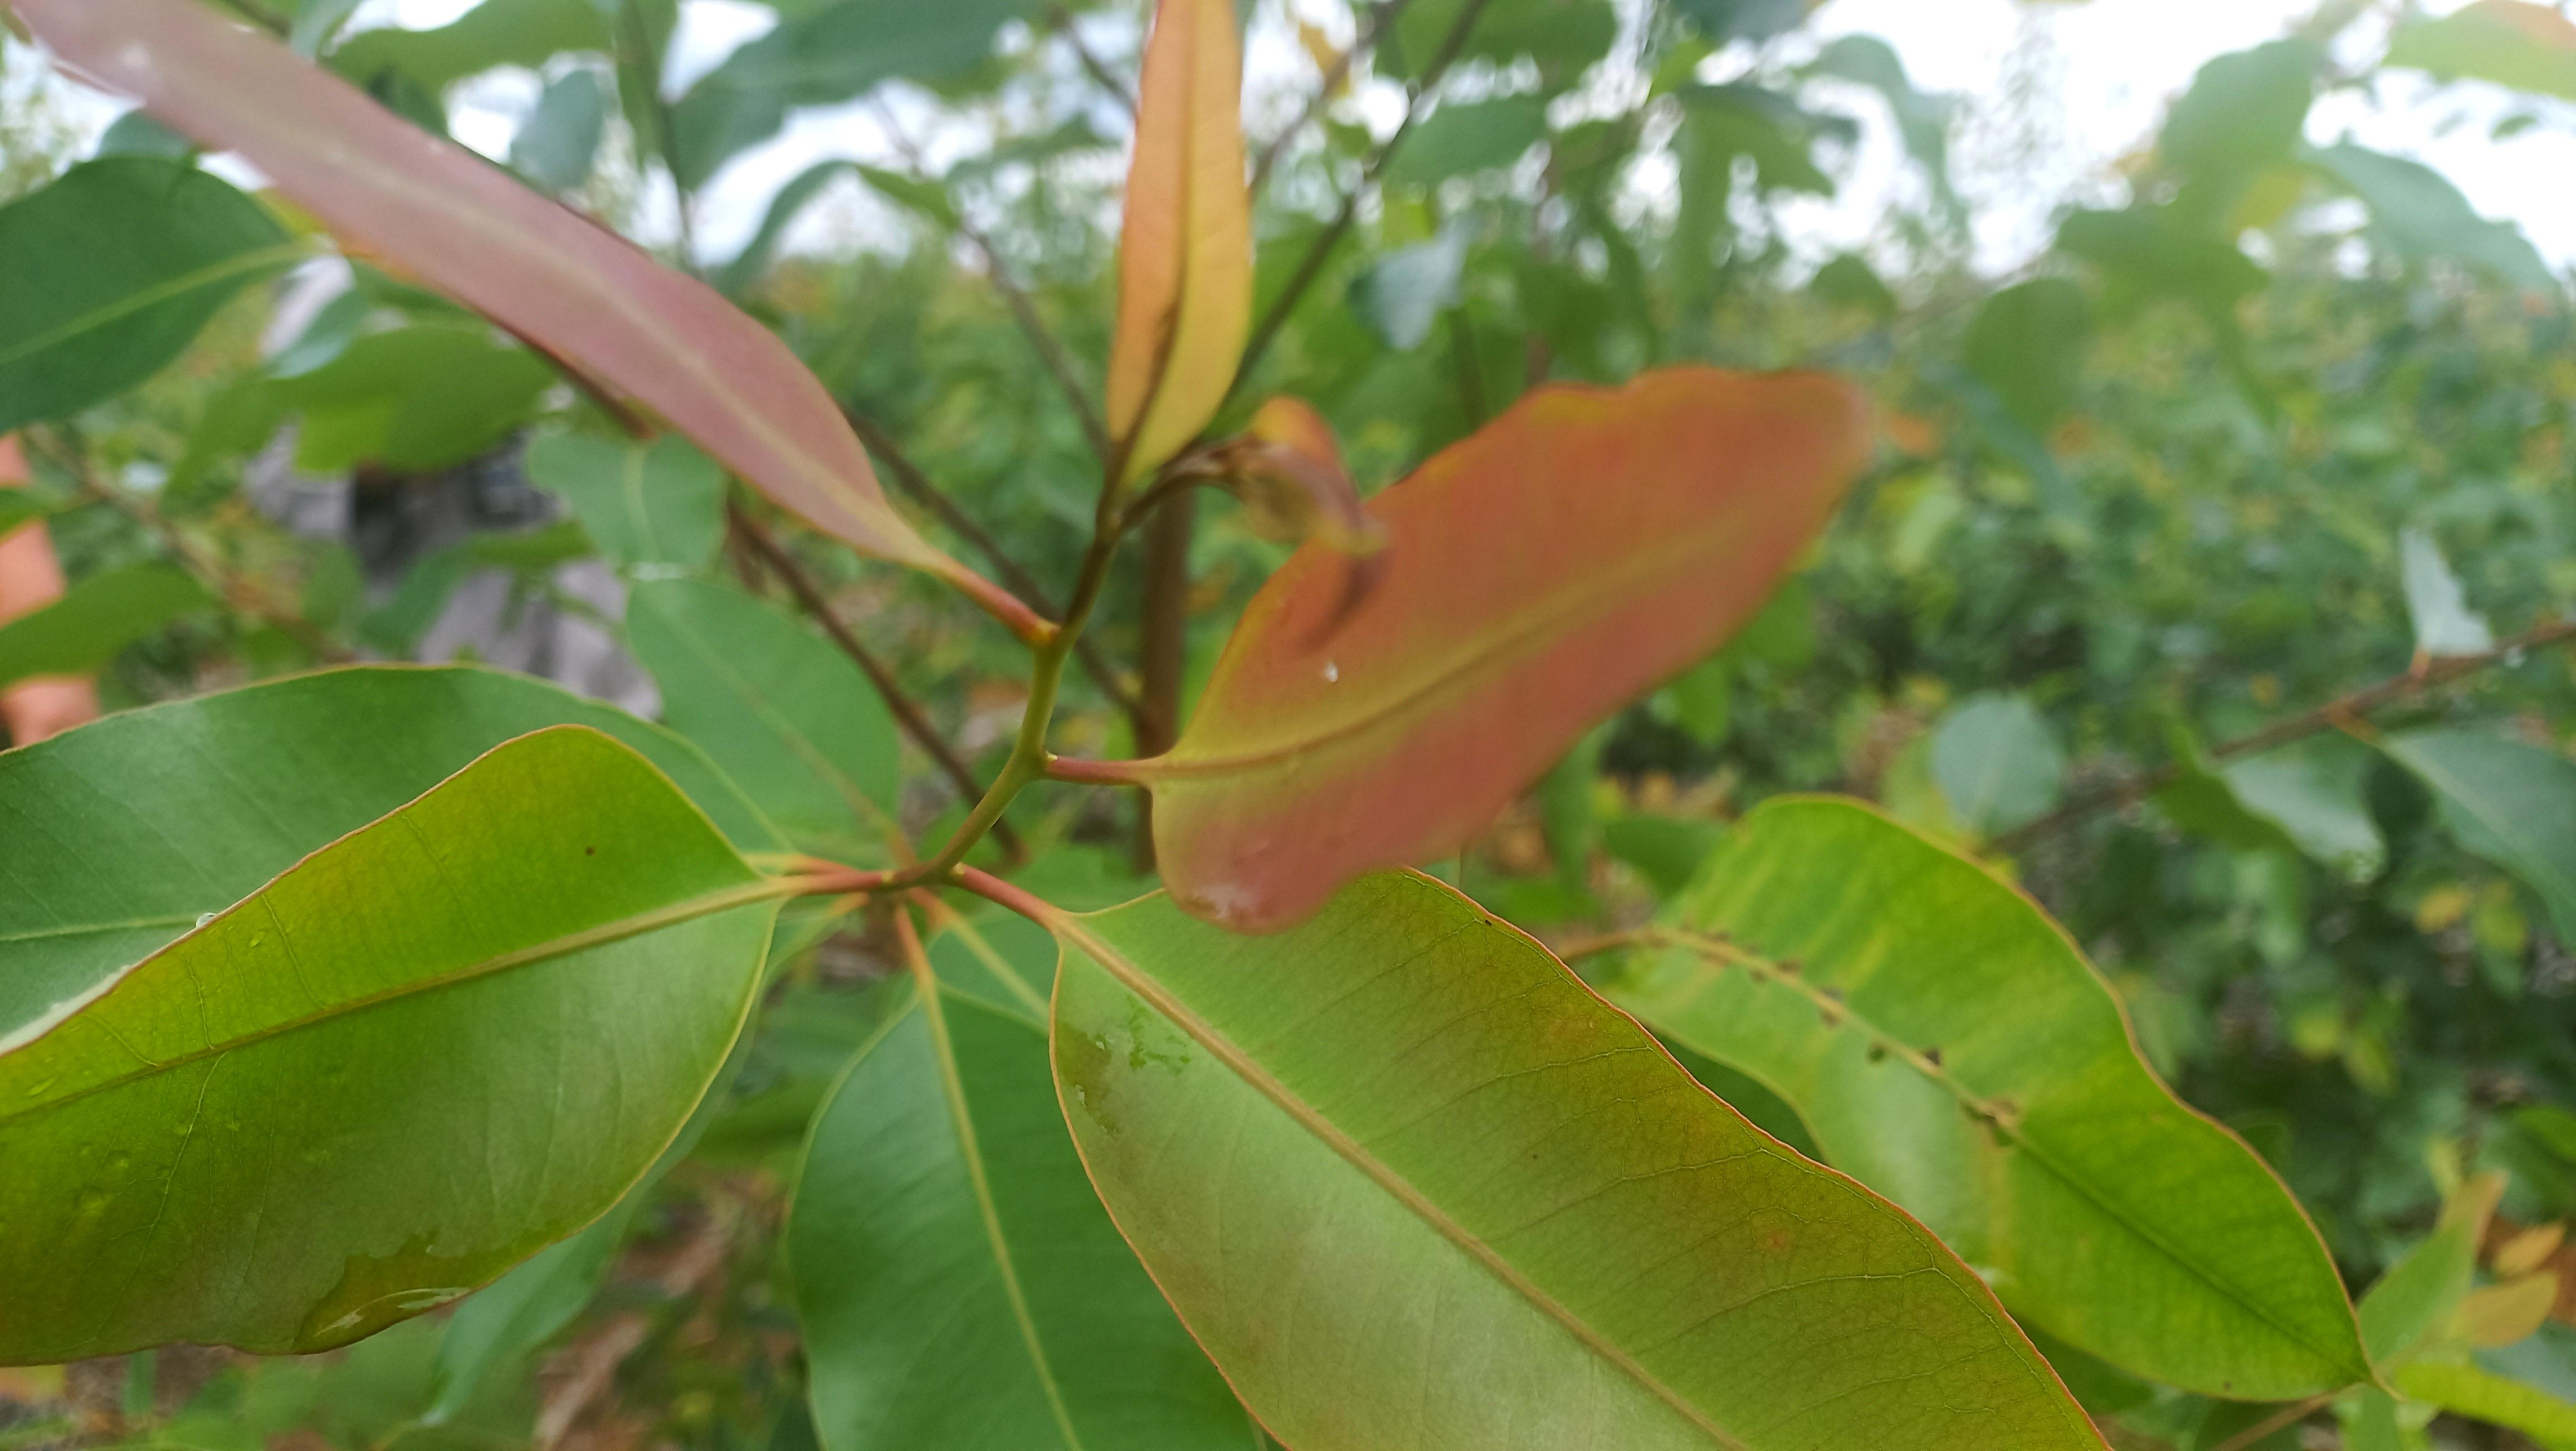Helopeltis-Withered Sprout: (0, 14, 1065, 639), (1095, 0, 1244, 522), (1233, 382, 1408, 656)
